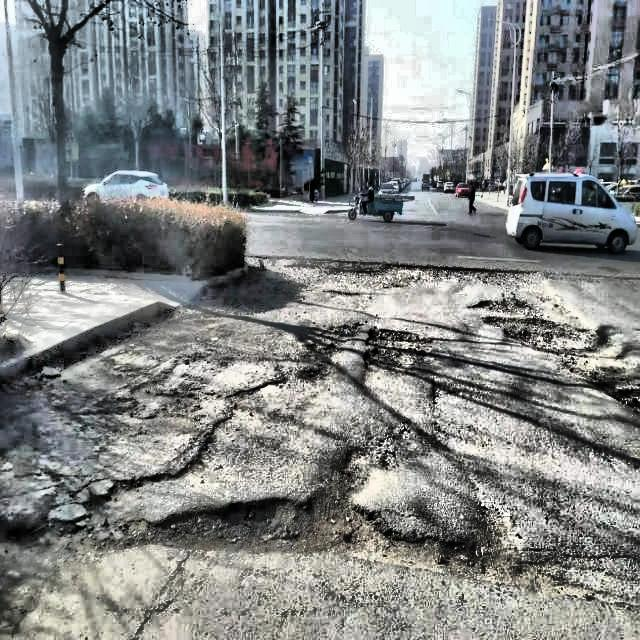buraco: (92, 492, 606, 600), (470, 298, 640, 426), (266, 256, 545, 294), (362, 326, 430, 376)
